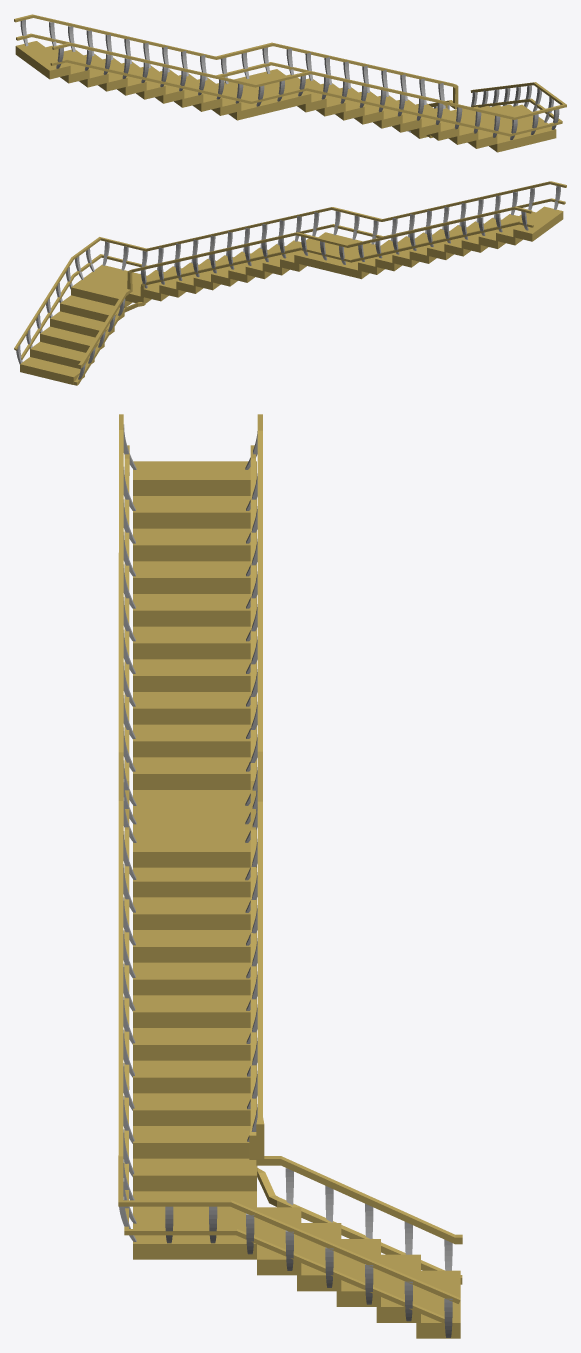
The model's file is stairs.fbx.
The picture shows the model from 3 angles, top to bottom: view 1: azimuth 30°, elevation 25°; view 2: azimuth 150°, elevation 25°; view 3: azimuth 270°, elevation 25°; orthographic projection. The views are drawn at different scales.
Parts seen in each view (by area): view 1: stairs; view 2: stairs; view 3: stairs.
Boxes of the visible parts, left/top/right/bottom form: stairs: left=14, top=14, right=566, bottom=152; stairs: left=14, top=181, right=566, bottom=385; stairs: left=118, top=414, right=462, bottom=1338.
Size of what is drawn, in the model's own units: 2438 by 1182 by 777.
